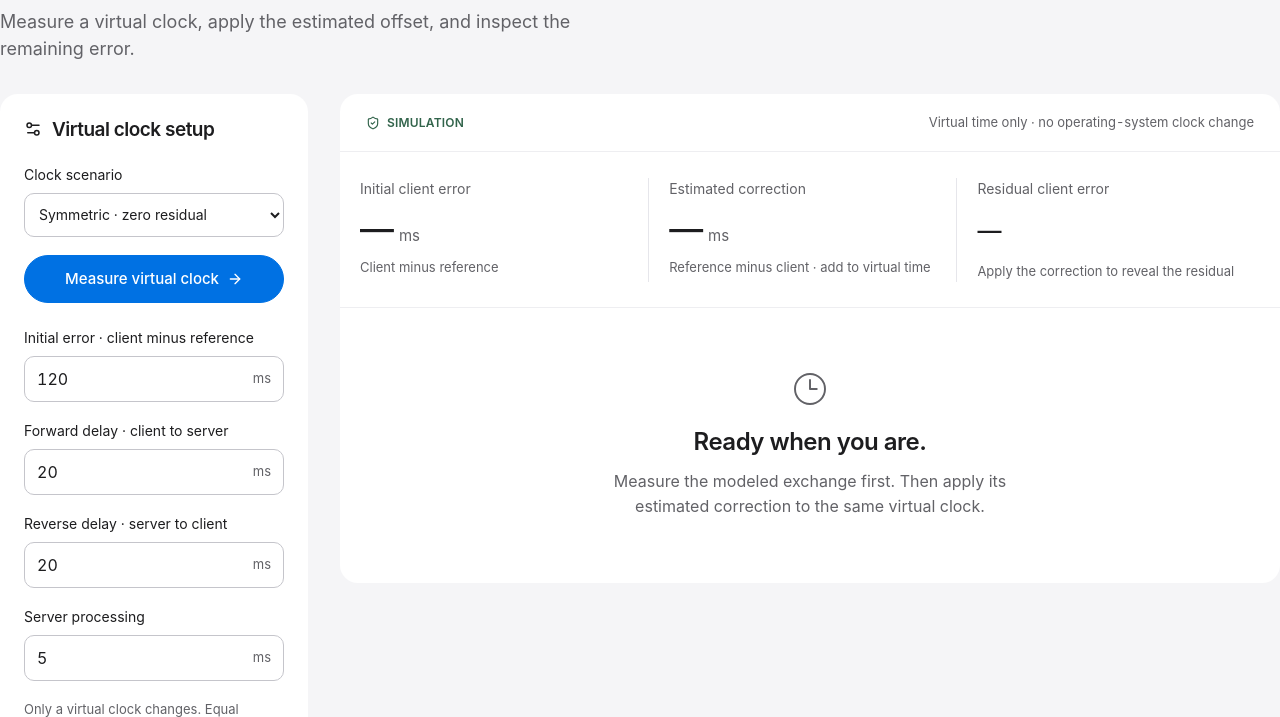
Test: disables correction for edited inputs and resets the whole experiment
This screenshot has width=1280, height=717.
Click the button "Measure virtual clock".
click(154, 279)  # box [24,255,284,303]
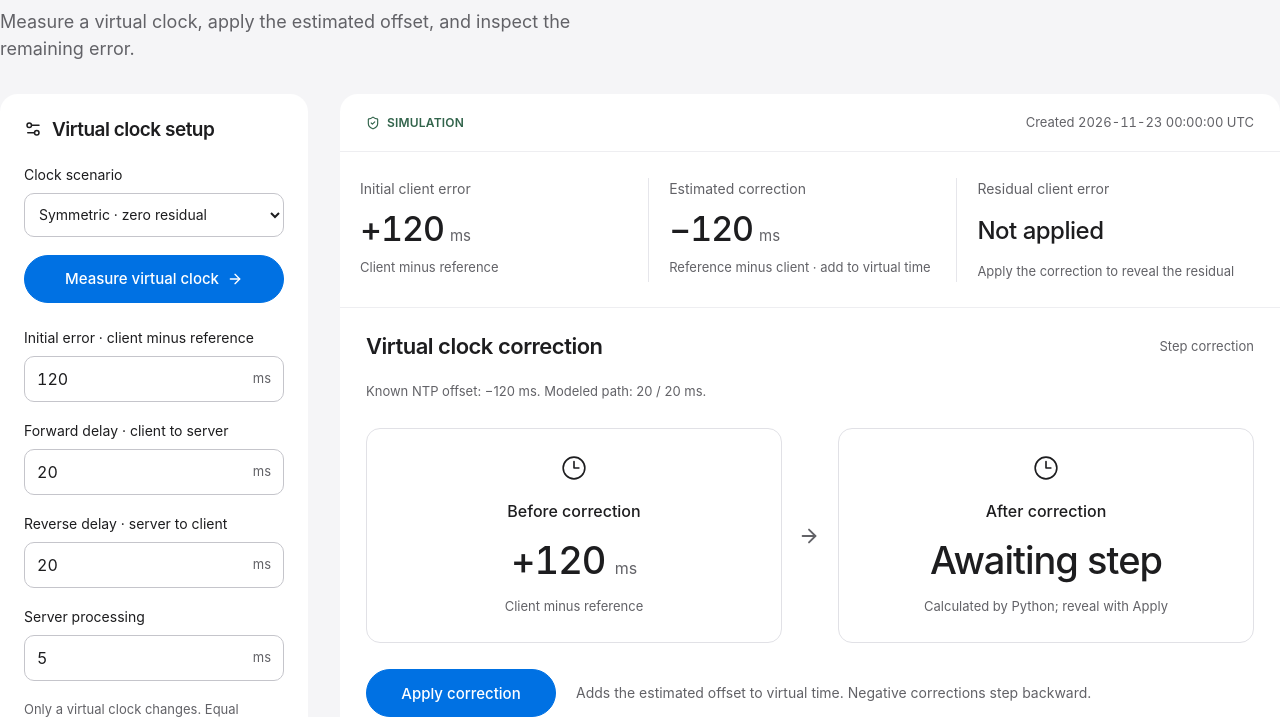
Expected: the text "Not applied" is shown, [977,217,1104,246]
Replace the text in the field labelled "Initial error · client minus reference ms" with "0" at (137, 379), box [25,357,249,401]
(page scrolled)
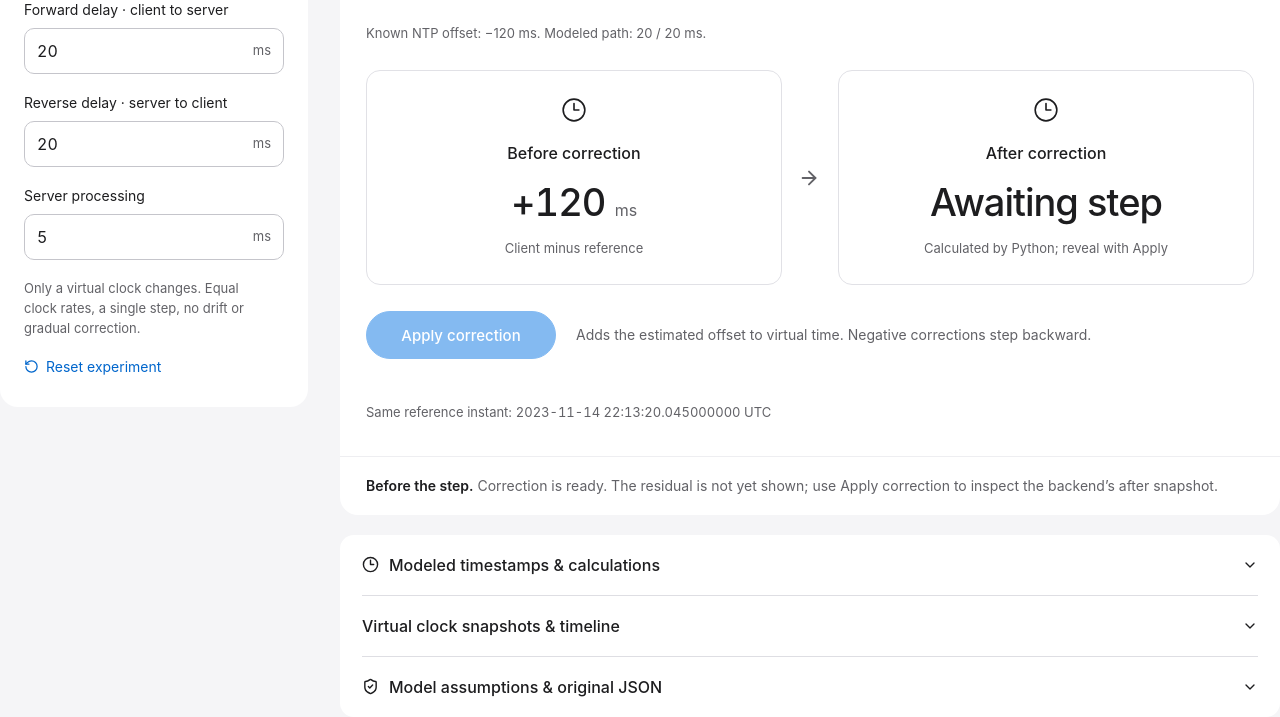
Expected: the button "Apply correction" is disabled, [366,311,556,359]
Click the button "Reset experiment".
click(93, 367)  # box [24,350,161,383]
(page scrolled)
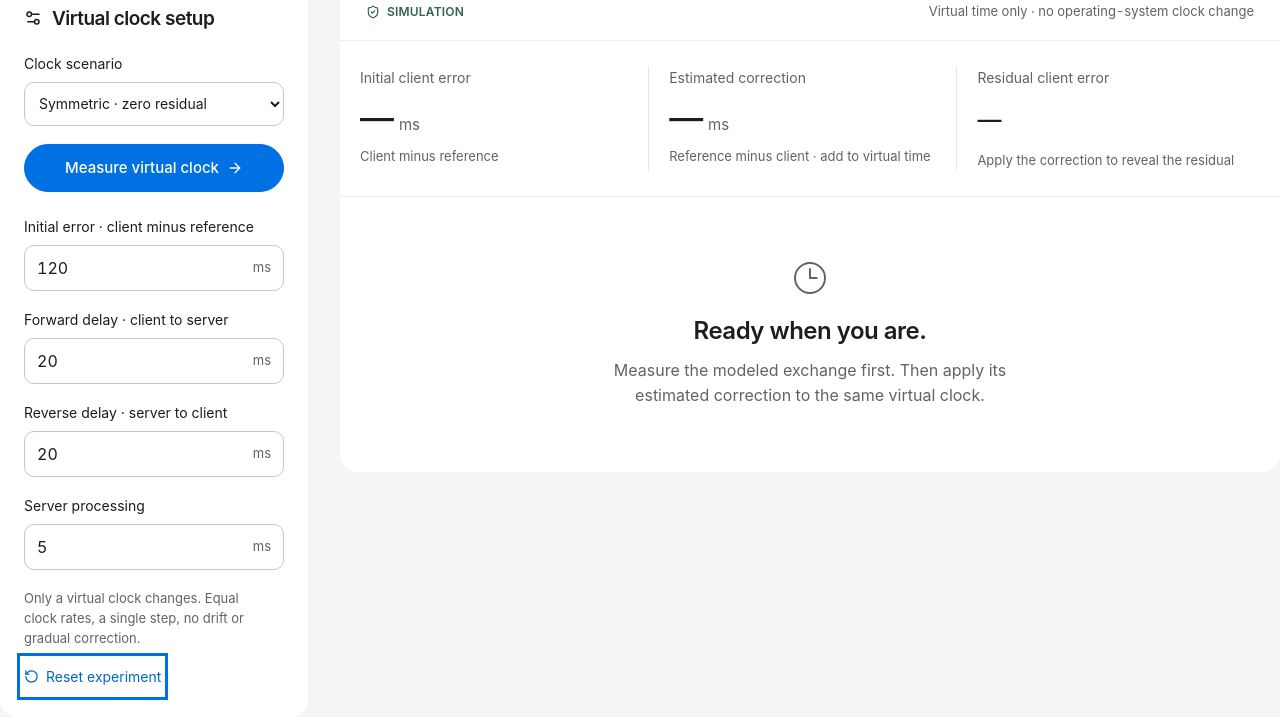
Expected: the field labelled "Initial error · client minus reference ms" holds "120", [25,246,249,290]
Expected: the button "Apply correction" is gone
